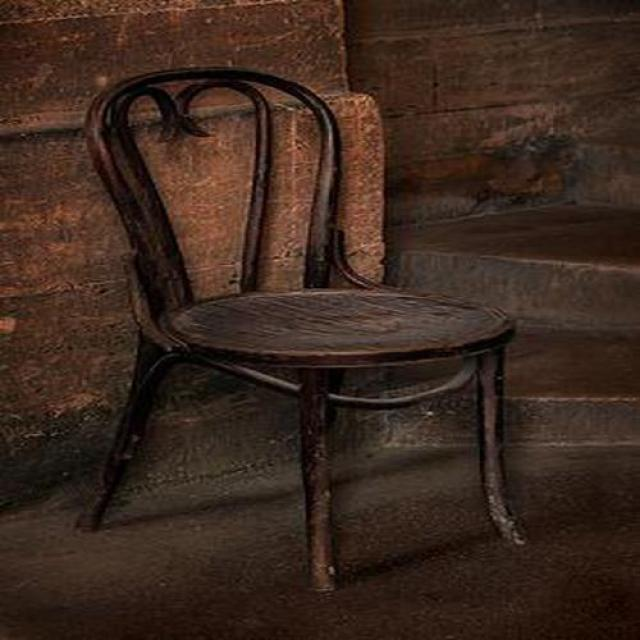chair: (77, 69, 526, 594)
